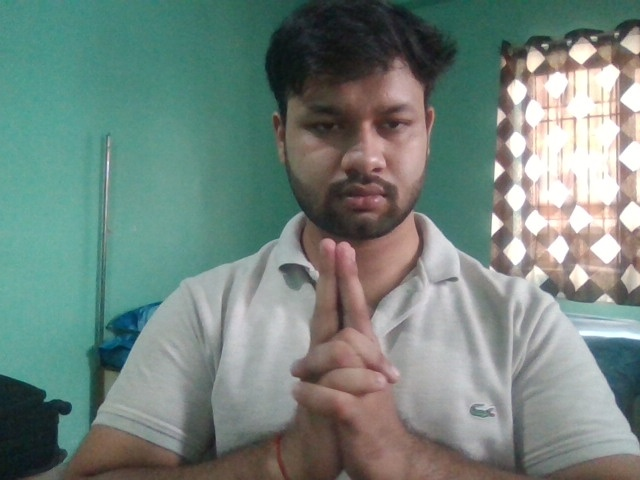1000 Years of Death: (277, 237, 412, 480)
